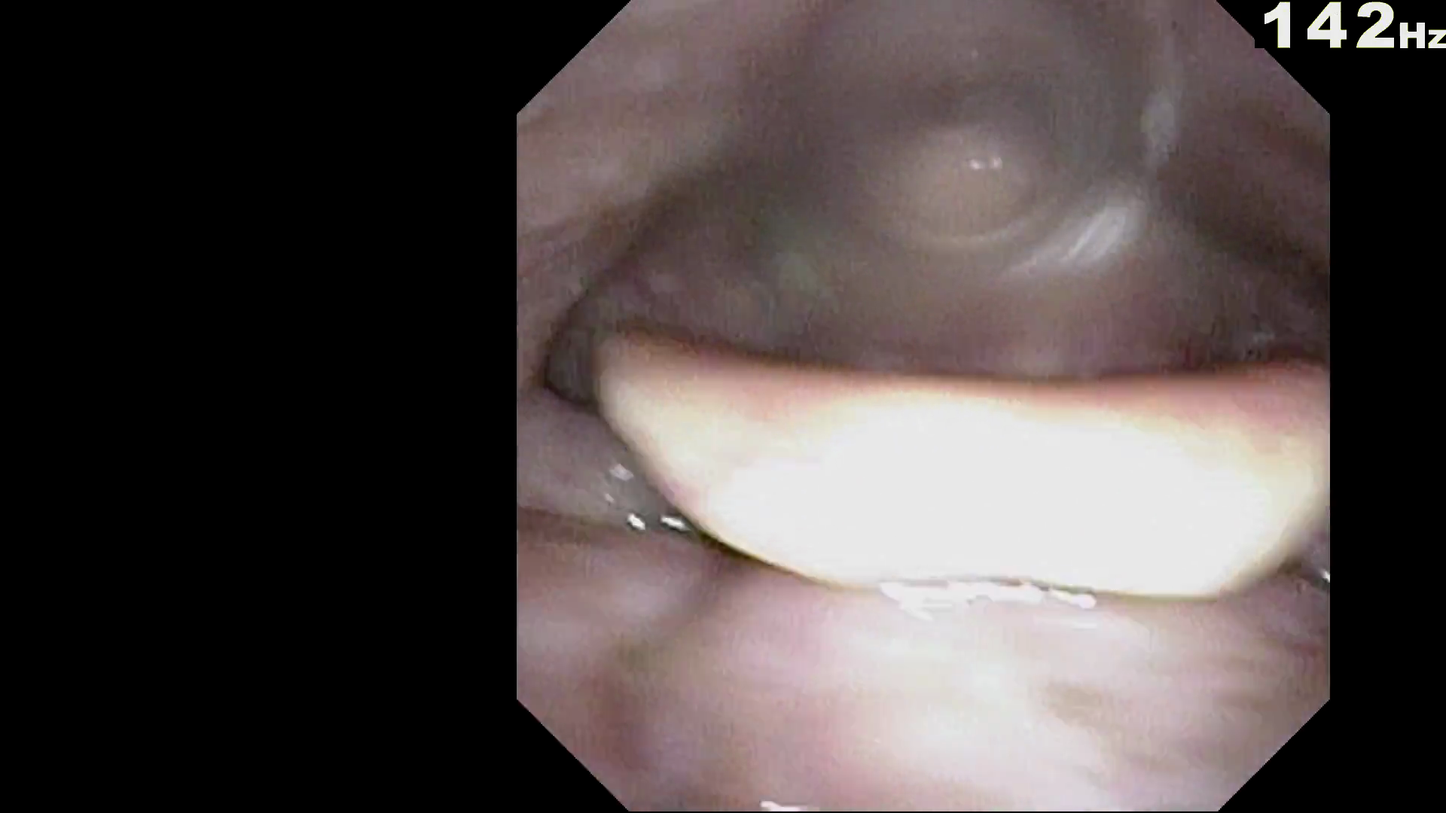epiglottis: (605, 330, 1221, 555)
